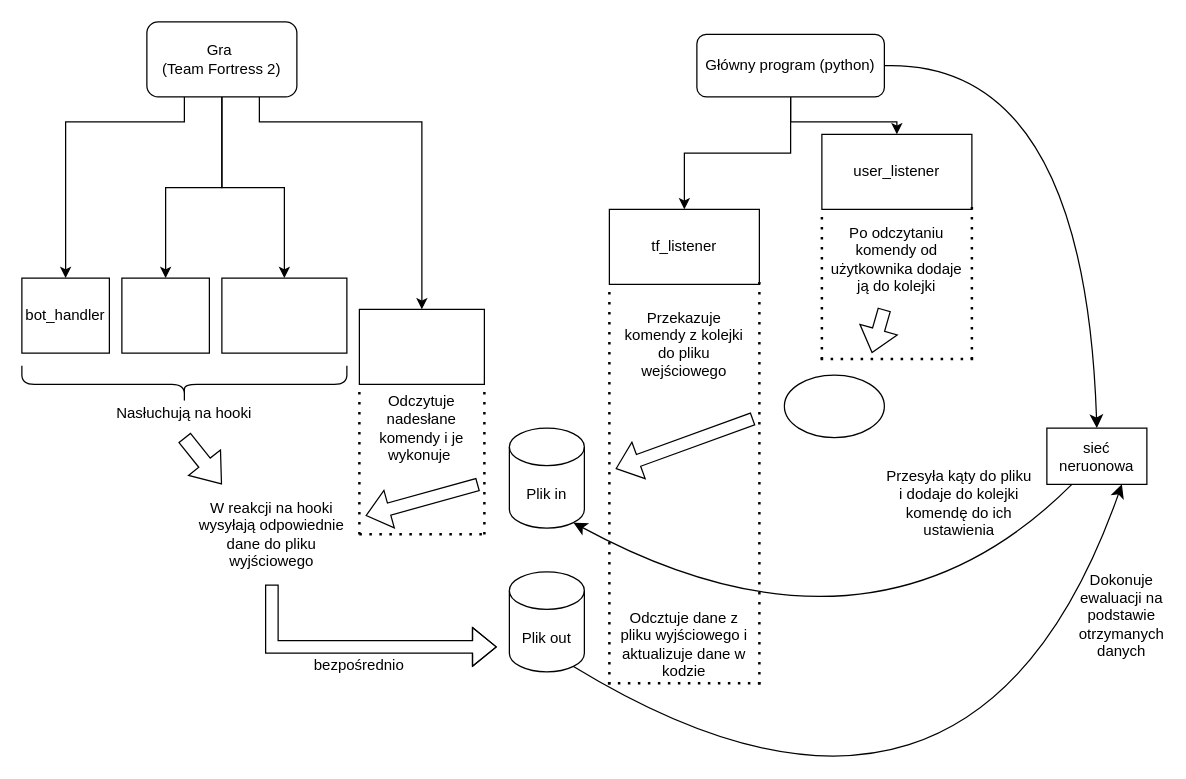
Image size: 1186x779. Some labels were removed from this diagram. The shapes that lost their labels are listed below. From the top down, each one's centre as x and y in pixels, then its label:
the point at 165,315: target_bot
the point at 284,315: projectile_handler
the point at 421,346: python_listener
the point at 833,406: kolejka komend
